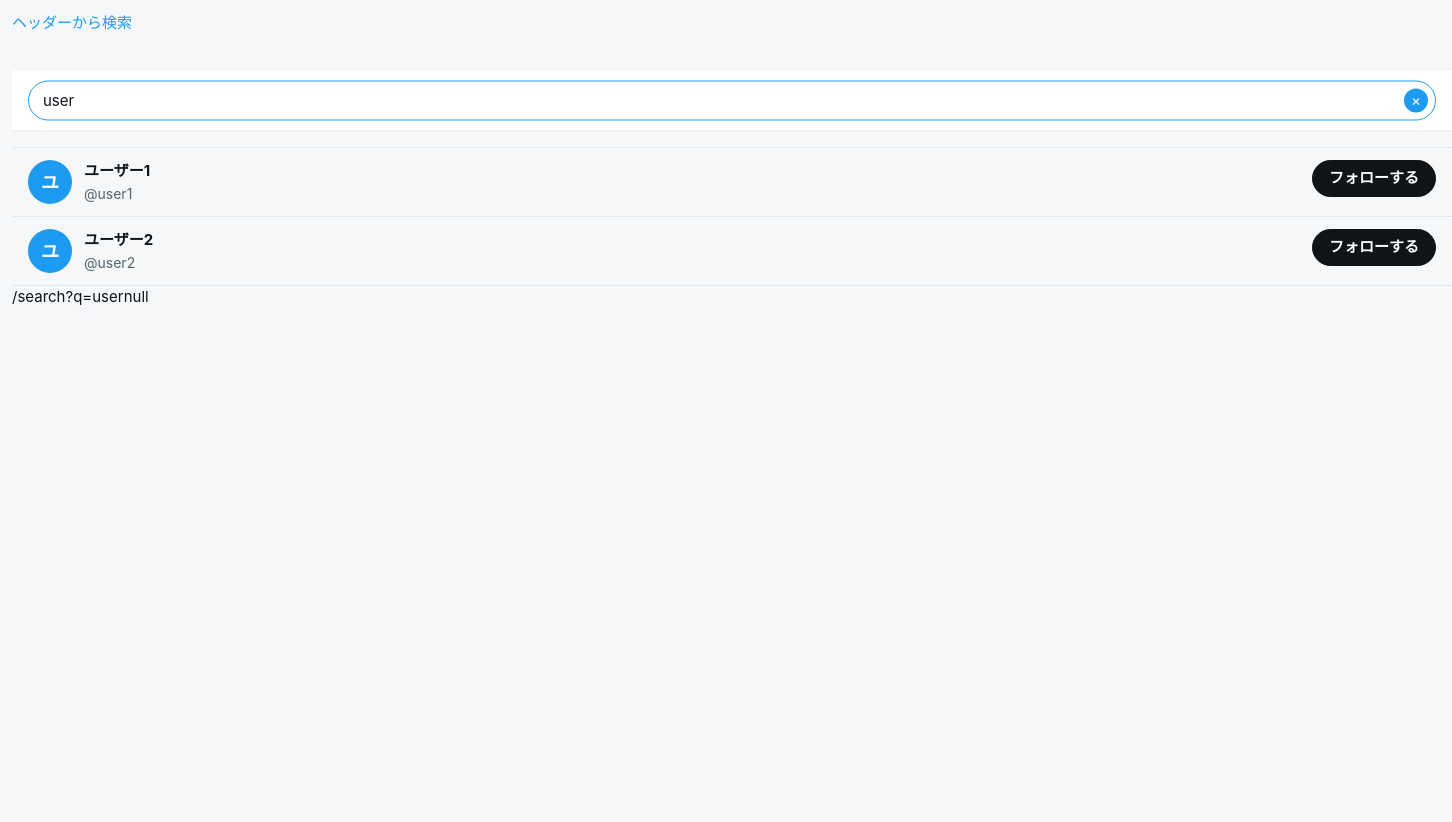
Test: SearchPage：結果 › フォローしたら、その行だけ「フォロー中」にする。失敗したらエラーを知らせる
Click the button "フォローする" in the row of "ユーザー1" at point(1374, 178), box [1312,160,1436,196]
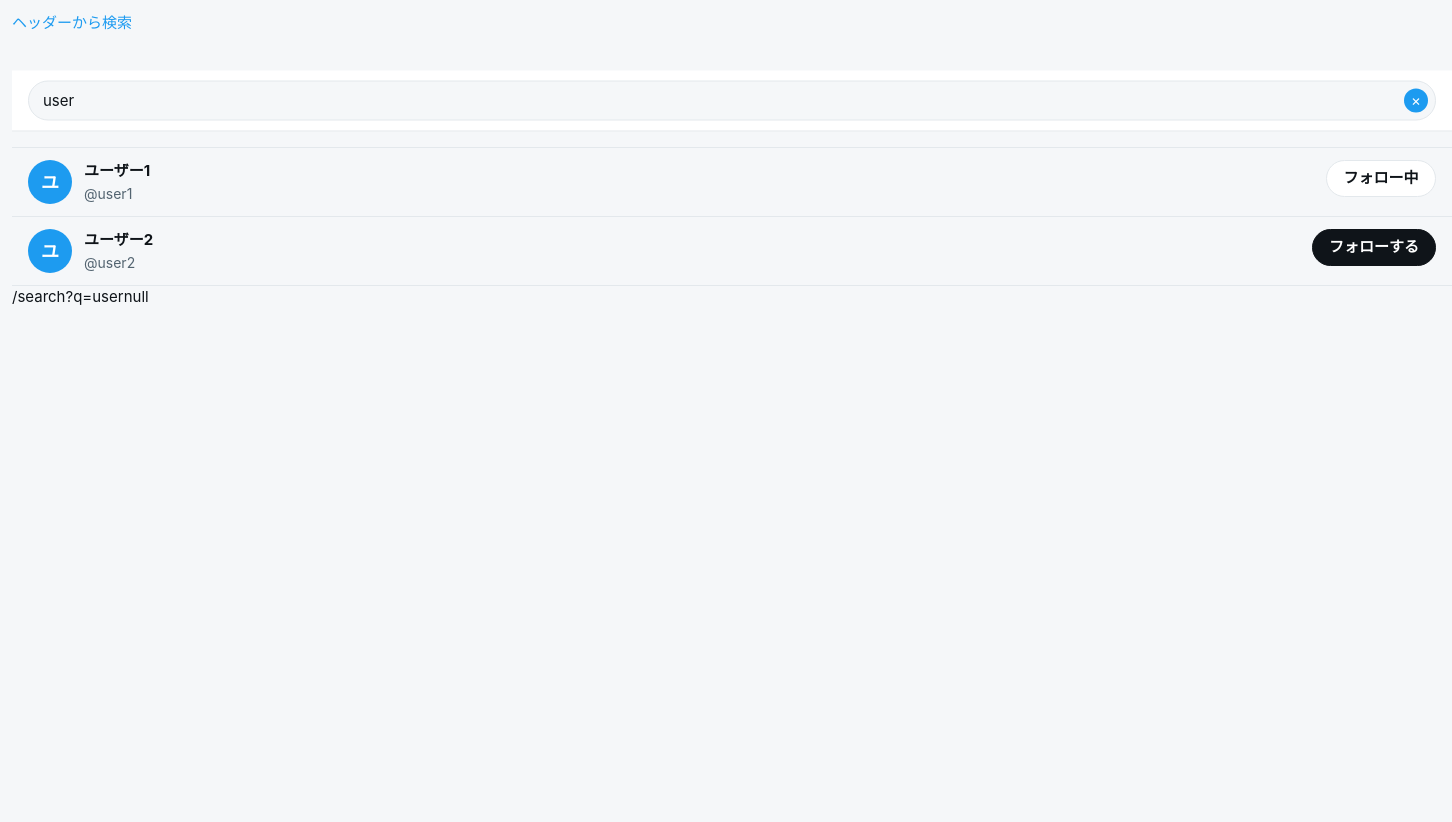
Click the button "フォローする" at point(1374, 247), box [1312,229,1436,266]
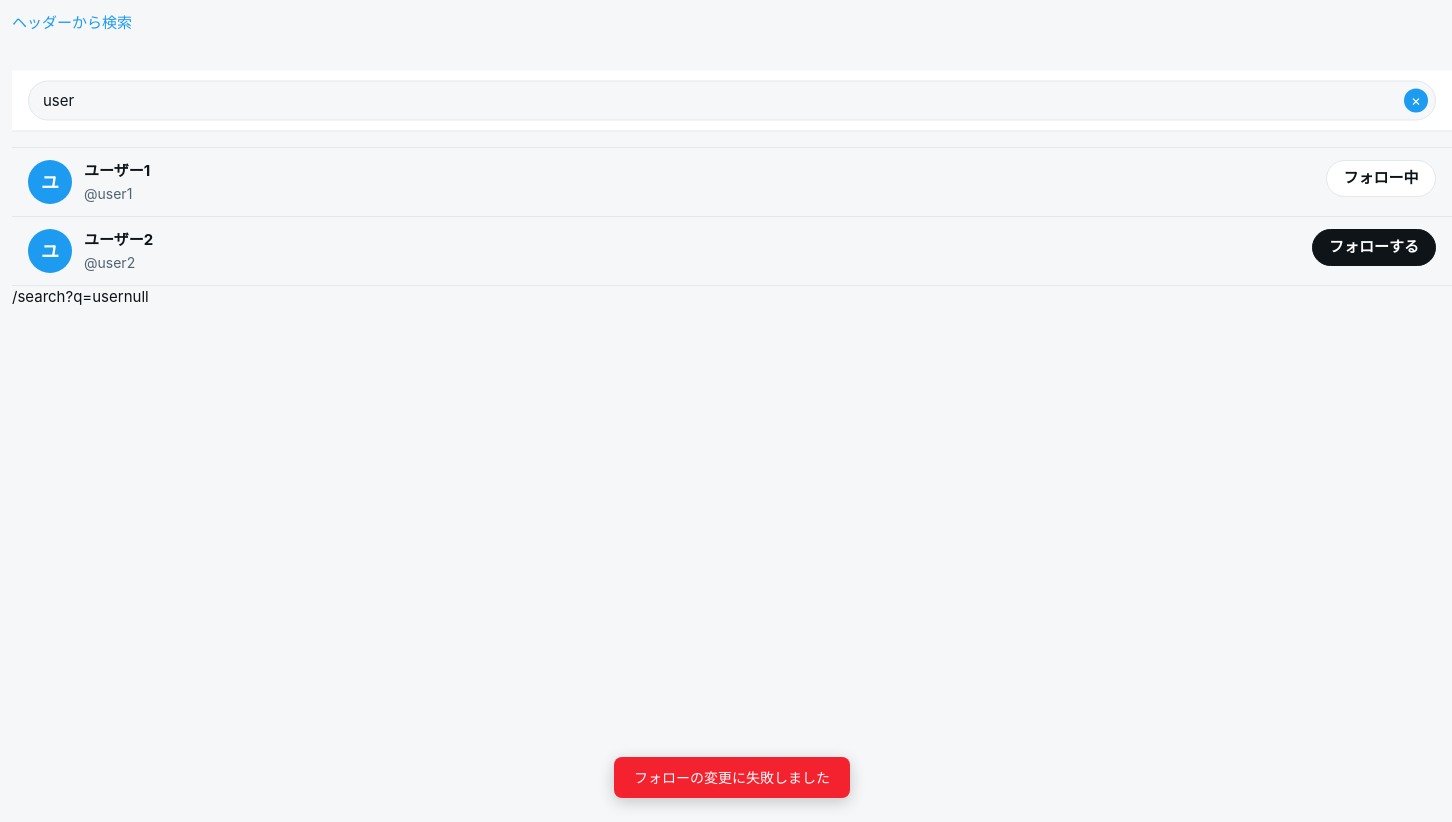
Now the text "フォローの変更に失敗しました" is shown, box [614,757,850,798]
